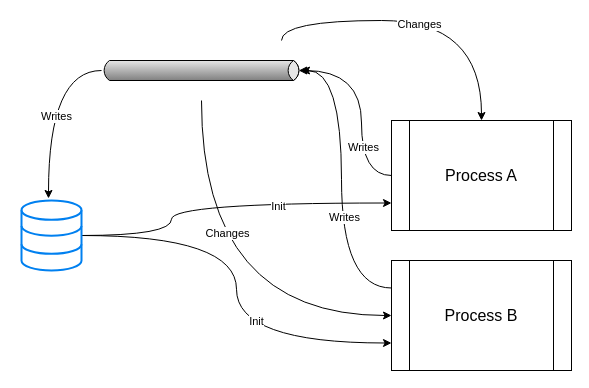
The diagram is 589 pixels wide and 388 high, and some of its shapes have lost their labels. The shapes that lost their labels are listed below. From the top down, each one's centre as x and y in pixels, then its label:
At (x=201, y=70): "NATS.io".
At (x=51, y=235): "Database".
